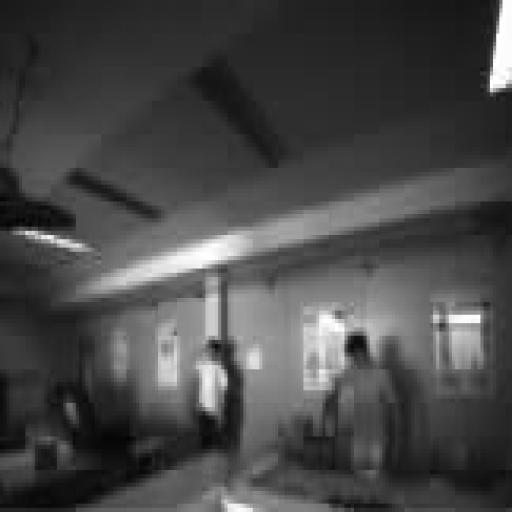human: (336, 332, 398, 474), (196, 340, 227, 449)
